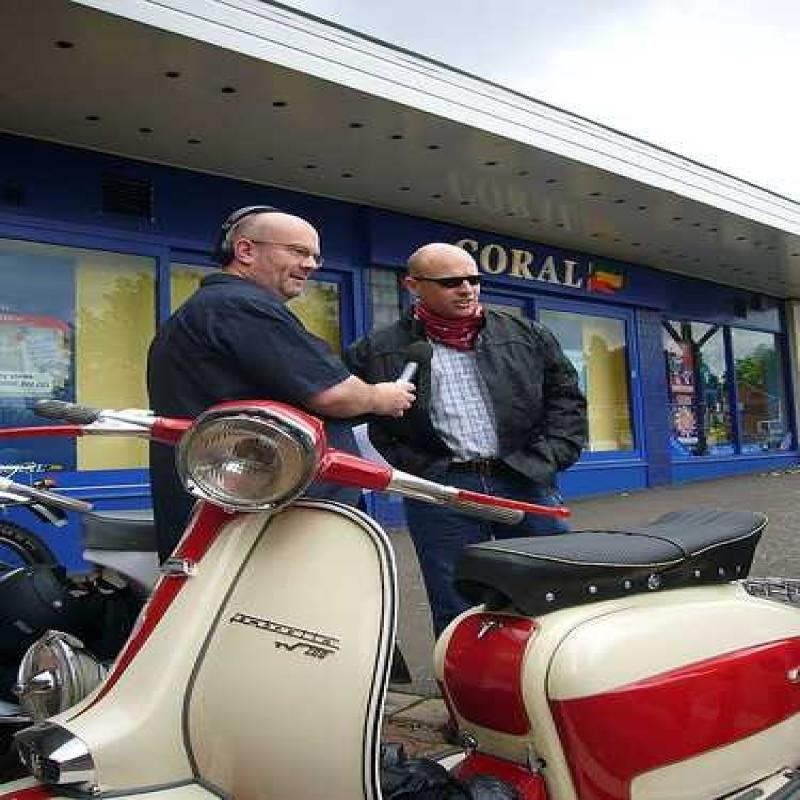bike: (40, 400, 800, 800)
